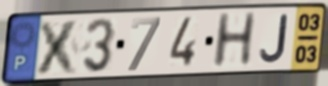3: (77, 16, 120, 76)
4: (167, 15, 198, 70)
7: (127, 16, 163, 73)
H: (209, 11, 259, 71)
J: (257, 13, 289, 65)
X: (33, 18, 83, 76)
